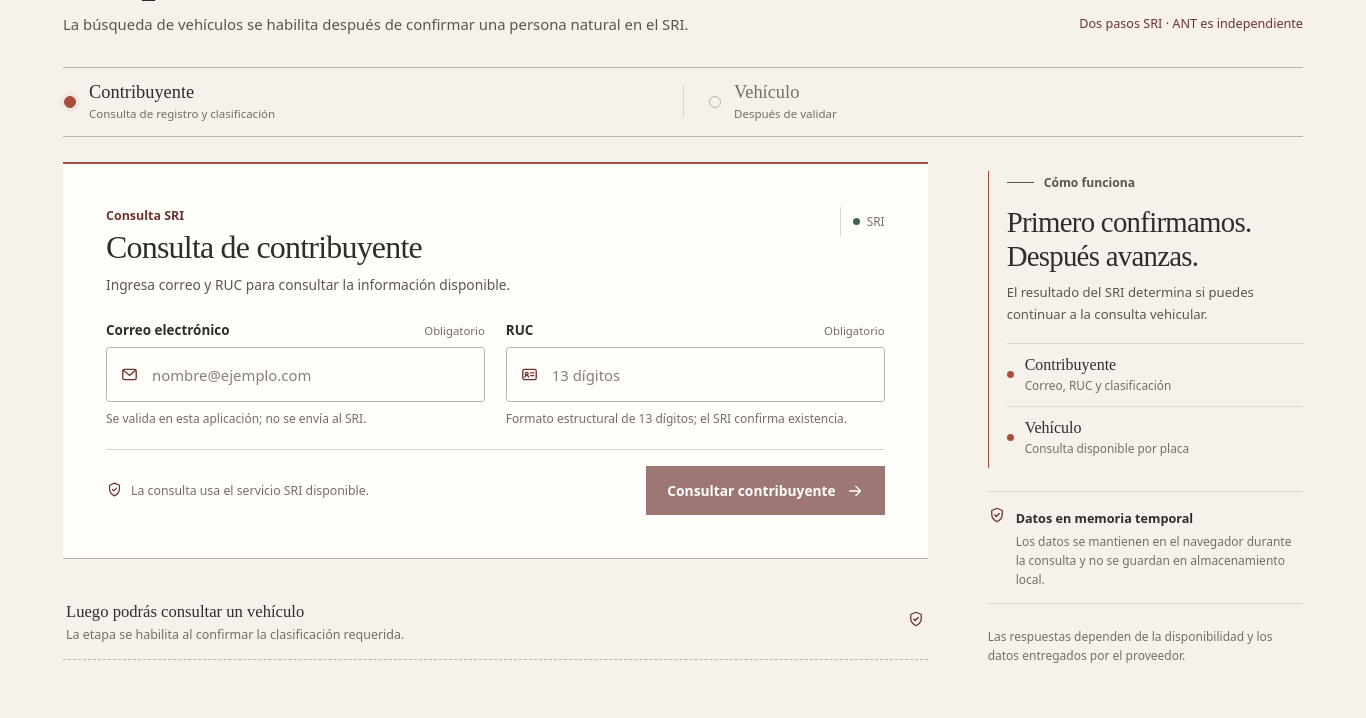
Portal de consultas › no presenta una clasificación indeterminada como persona natural
(page scrolled)
Type "usuario@ejemplo.com" into the field labelled "Correo electrónico". click: [295, 375]
box: [106,348,485,402]
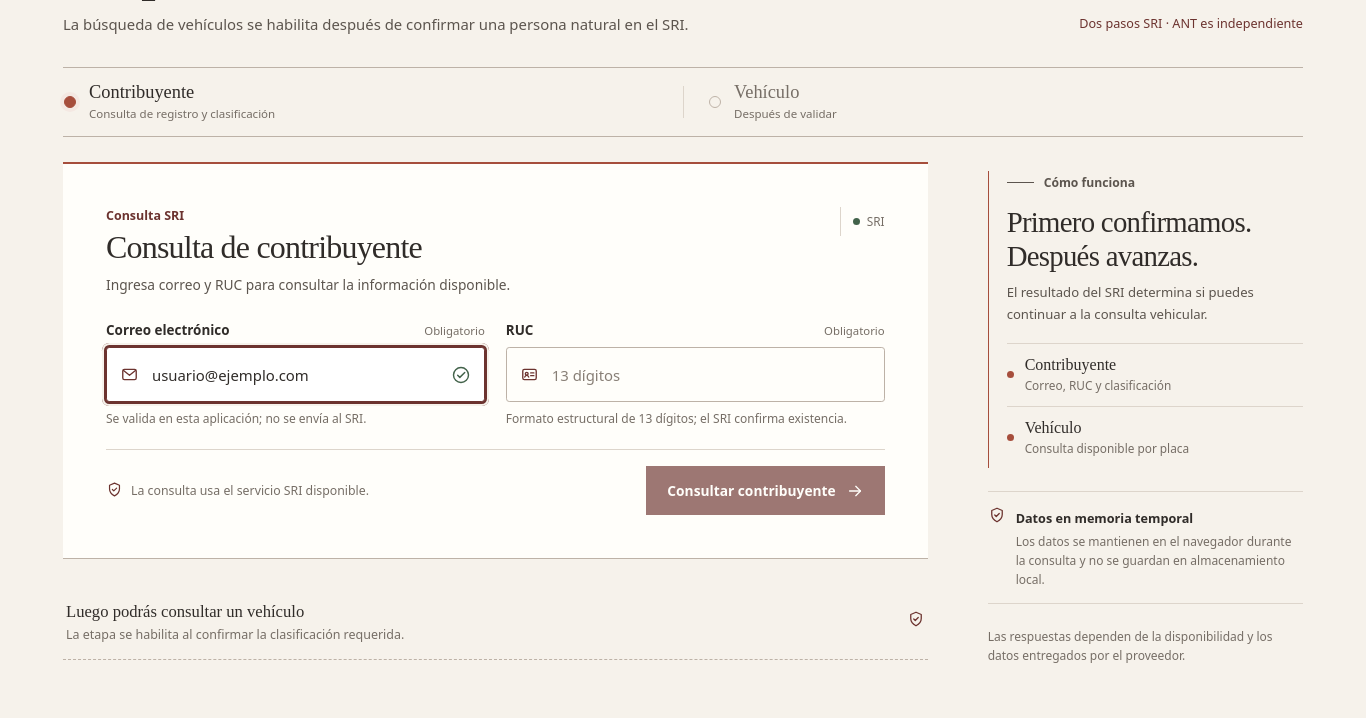
Type "0000000000000" into the field labelled "RUC". click: [695, 375]
box: [506,348,885,402]
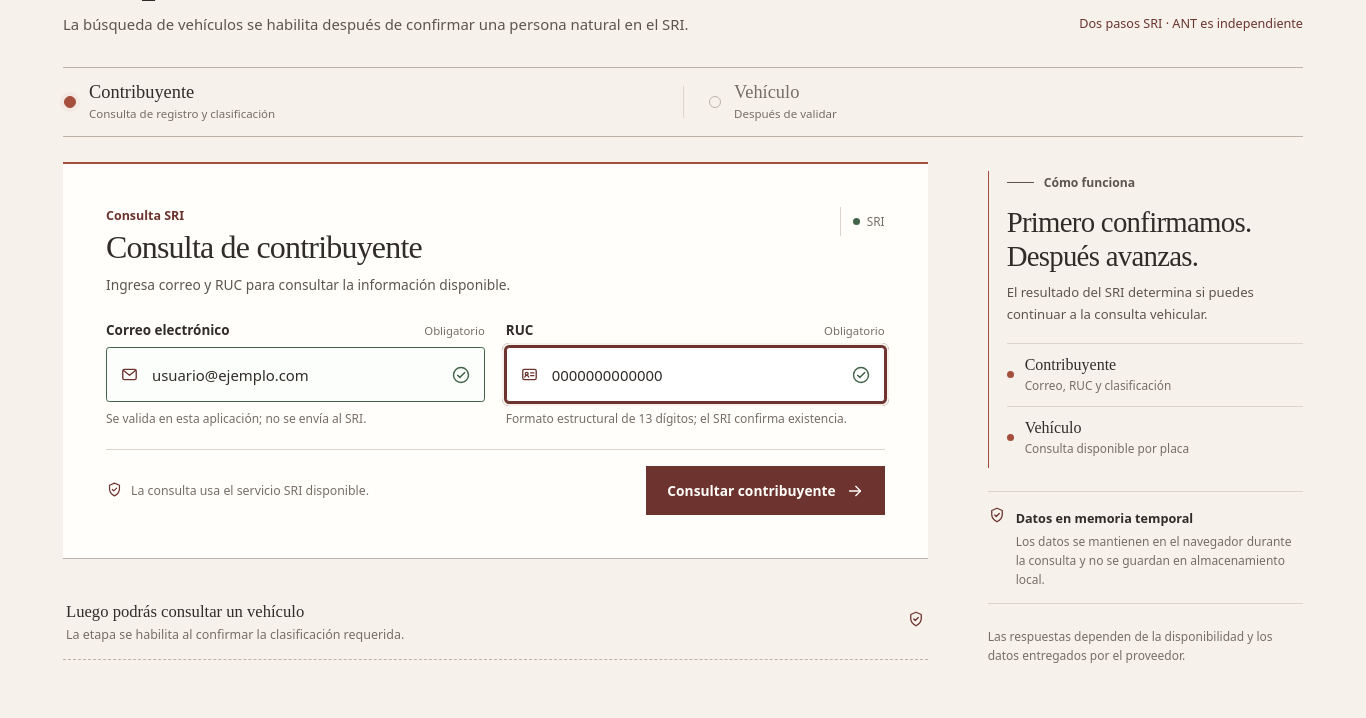
Click the button "Consultar contribuyente". click: [765, 491]
box: [646,466,885,516]
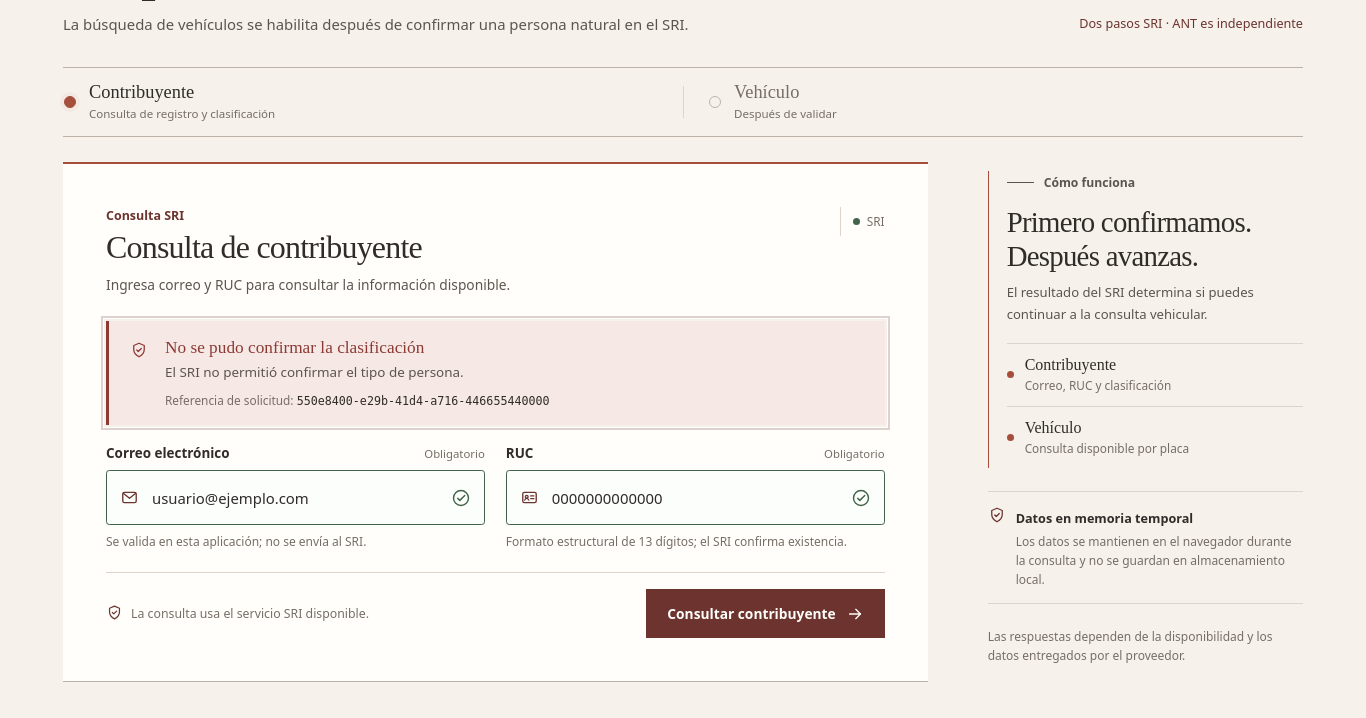
Expected: the text "El SRI no permitió confirmar el tipo de persona." is shown, [165,364,464,382]
